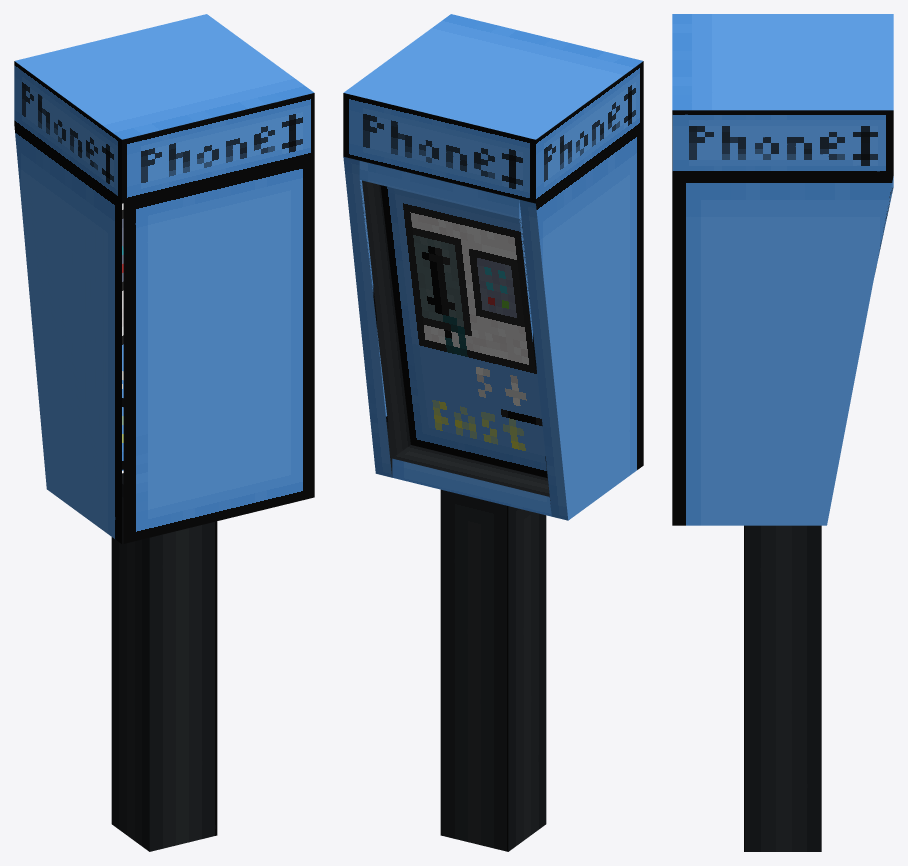
Rendered from BGN_STREET TELEPHONE.fbx.
3 renders of one model, left to right at view 1: azimuth 30°, elevation 25°; view 2: azimuth 150°, elevation 25°; view 3: azimuth 270°, elevation 25°, orthographic. The views are drawn at different scales.
Visible parts, largest first — view 1: BGN_STREET_TELEPHONE; view 2: BGN_STREET_TELEPHONE; view 3: BGN_STREET_TELEPHONE.
Part boxes in pixels (x1,y1,x2,y2): BGN_STREET_TELEPHONE: (14,14,314,851); BGN_STREET_TELEPHONE: (343,14,643,851); BGN_STREET_TELEPHONE: (672,14,893,851).
Bounding box in the file's own units: 60.54 × 226 × 58.68.
Materials: 1 (1 with a texture image).
